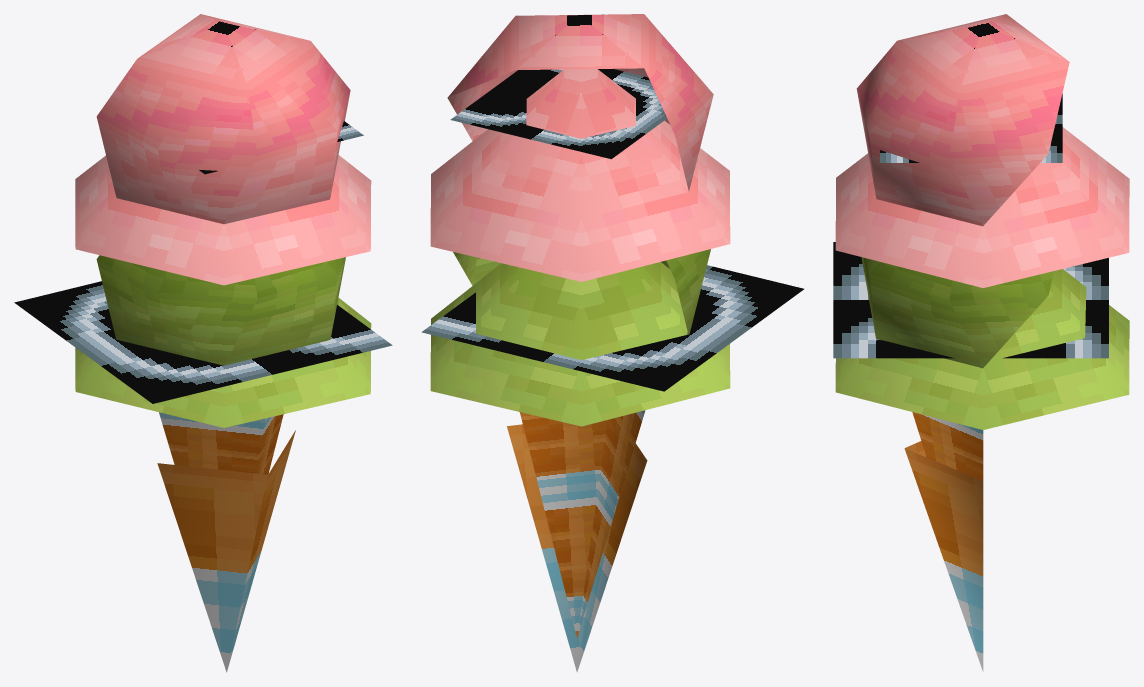
3 renders of one model, left to right at view 1: azimuth 30°, elevation 25°; view 2: azimuth 150°, elevation 25°; view 3: azimuth 270°, elevation 25°, orthographic.
Parts seen in each view (by area): view 1: 5618u_ice00_hs; view 2: 5618u_ice00_hs; view 3: 5618u_ice00_hs.
Part boxes in pixels (x1=…): 5618u_ice00_hs: x1=14, y1=14, x2=392, y2=672; 5618u_ice00_hs: x1=421, y1=14, x2=803, y2=672; 5618u_ice00_hs: x1=833, y1=14, x2=1129, y2=671.
Size of the model in its own units: 0.4375 by 0.9199 by 0.3818.
6 materials, 6 textured.
